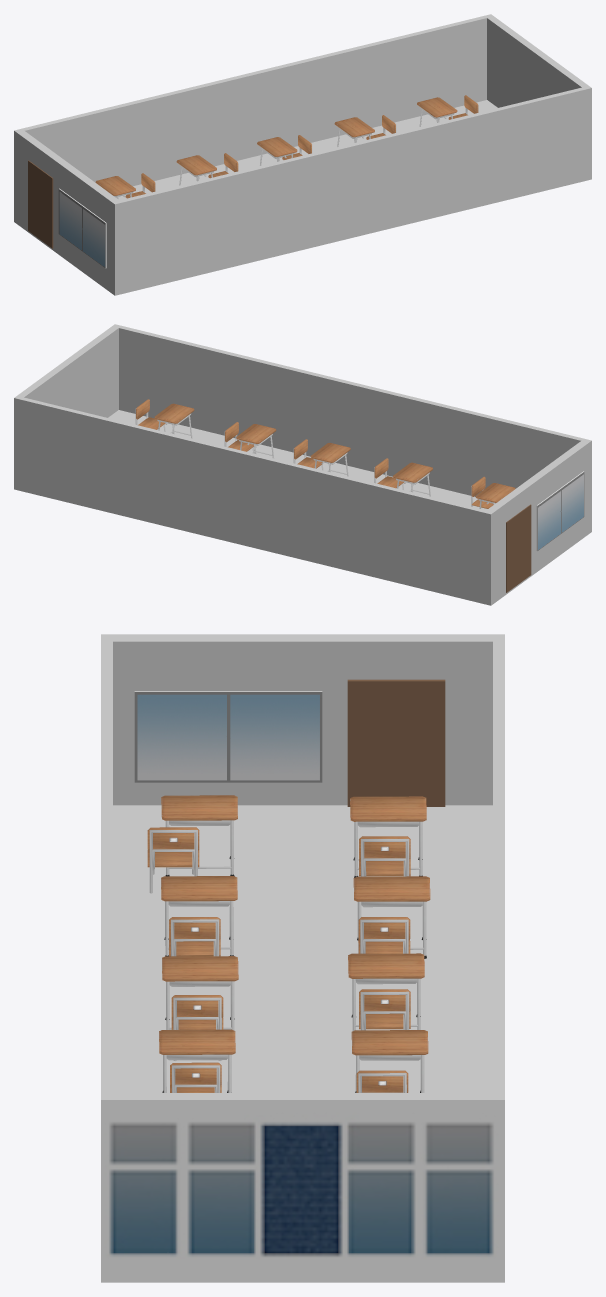
File: room.gltf
The picture shows the model from 3 angles, top to bottom: view 1: azimuth 30°, elevation 25°; view 2: azimuth 150°, elevation 25°; view 3: azimuth 270°, elevation 25°; orthographic projection. The views are drawn at different scales.
Visible parts, largest first — view 1: 立方体, 立方体.001, desk__0.003, desk__0.006, desk__0.007, desk__0.009, desk__0.002; view 2: 立方体, 立方体.001, desk__0.010, desk__0.005, desk__0.008, desk__0.004, desk__0.001, Chair.002__0.009, Chair.002__0.003, Chair.002__0.007, Chair.002__0.004; view 3: 立方体, 立方体.001, desk__0.004, desk__0.002, desk__0.007, desk__0.008, desk__0.003, desk__0.001, desk__0.005, desk__0.006, Chair.002__0, Chair.002__0.006 (+6 smaller).
Part boxes in pixels (x1,y1,x2,y2): 立方体: [14, 14, 591, 295]; 立方体.001: [58, 188, 106, 268]; desk__0.003: [176, 155, 216, 185]; desk__0.006: [334, 117, 374, 146]; desk__0.007: [257, 137, 297, 165]; desk__0.009: [417, 97, 457, 126]; desk__0.002: [95, 176, 135, 198]; 立方体: [14, 324, 591, 605]; 立方体.001: [536, 471, 584, 551]; desk__0.010: [154, 403, 194, 438]; desk__0.005: [236, 424, 276, 458]; desk__0.008: [310, 443, 350, 476]; desk__0.004: [393, 462, 432, 496]; desk__0.001: [475, 483, 515, 508]; Chair.002__0.009: [135, 399, 165, 431]; Chair.002__0.003: [374, 458, 404, 489]; Chair.002__0.007: [293, 439, 323, 470]; Chair.002__0.004: [224, 422, 254, 453]; 立方体: [101, 634, 504, 1282]; 立方体.001: [134, 691, 322, 782]; desk__0.004: [161, 876, 237, 956]; desk__0.002: [350, 796, 426, 877]; desk__0.007: [348, 953, 424, 1030]; desk__0.008: [162, 956, 238, 1030]; desk__0.003: [353, 876, 430, 958]; desk__0.001: [161, 795, 237, 876]; desk__0.005: [159, 1029, 235, 1092]; desk__0.006: [351, 1030, 428, 1092]; Chair.002__0: [147, 827, 199, 893]; Chair.002__0.006: [359, 989, 410, 1030].
Bounding box in the file's own units: 0.4852 × 0.0887 × 0.1775.
Materials: 24 (22 with a texture image).
